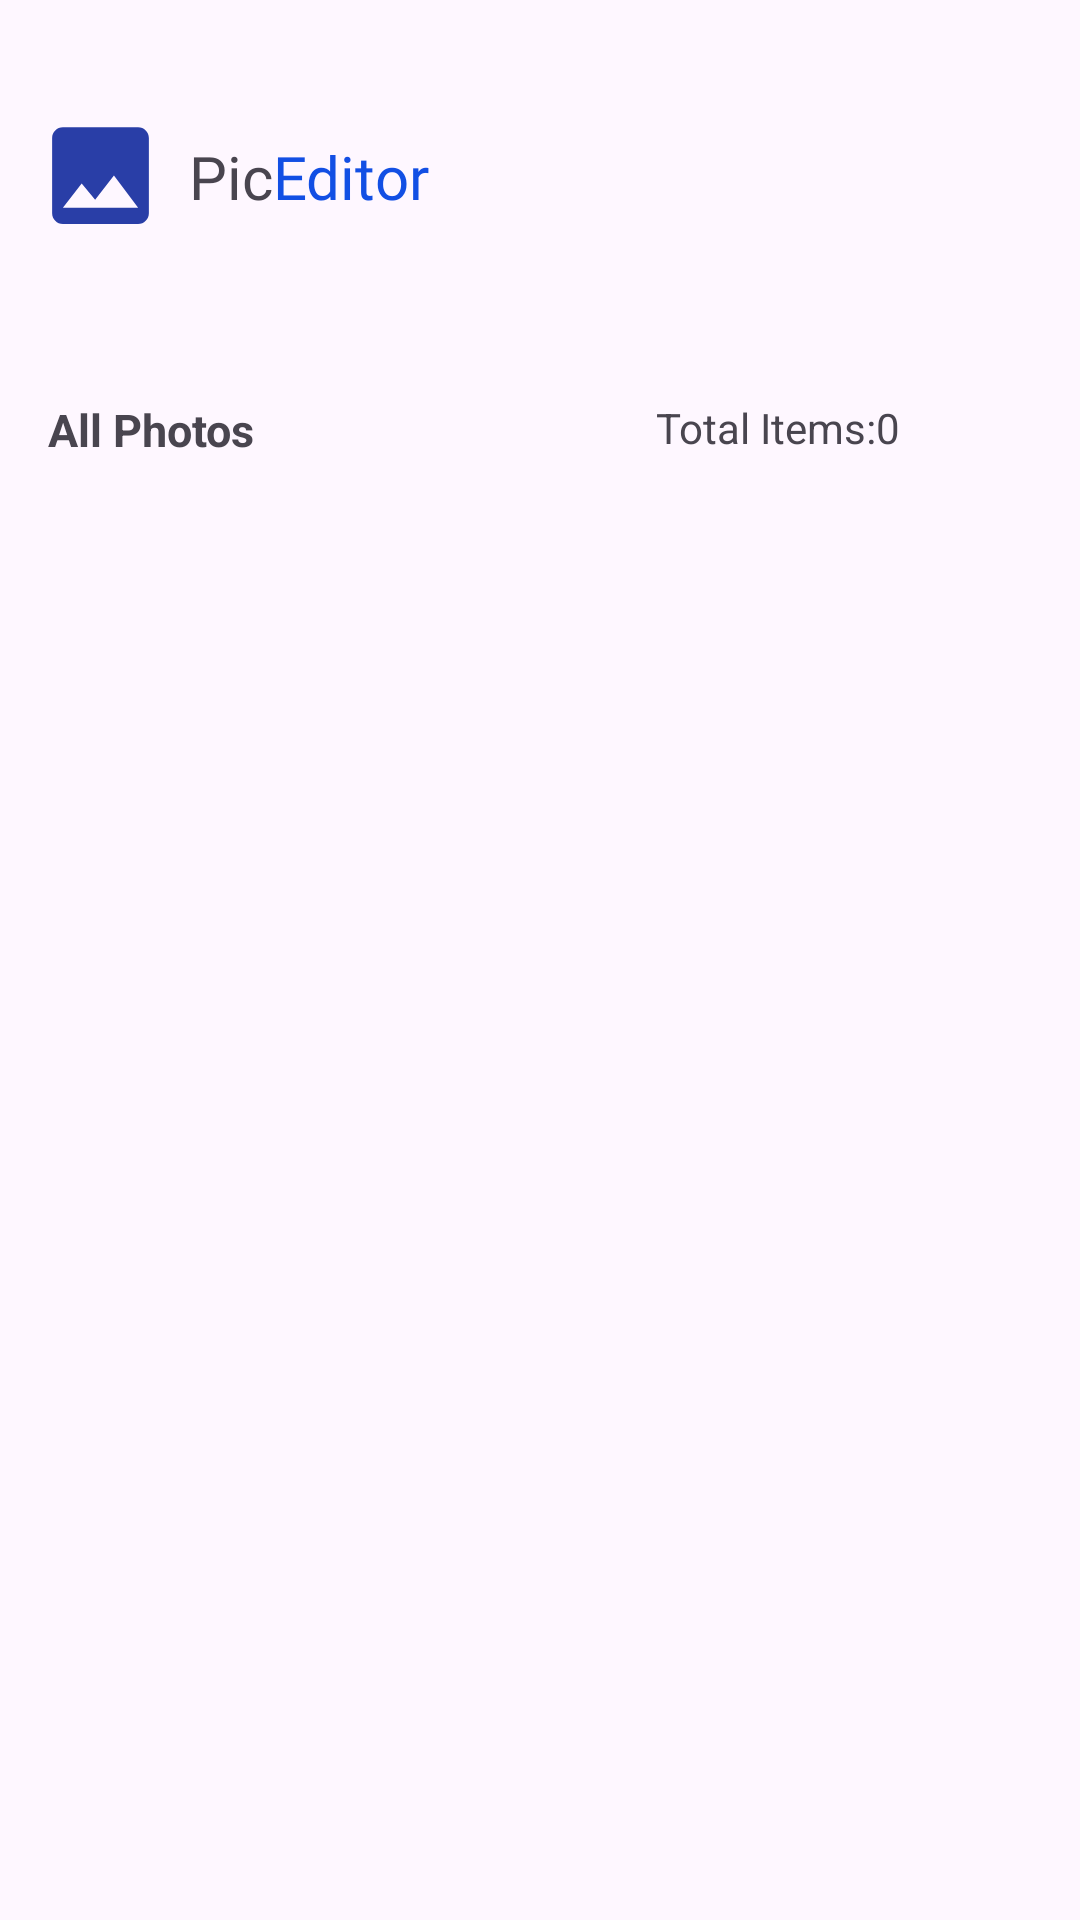

Icons on this 1080*1920 Android screen, each with the point to tap as point (x, y):
insert photo: point (100, 175)
